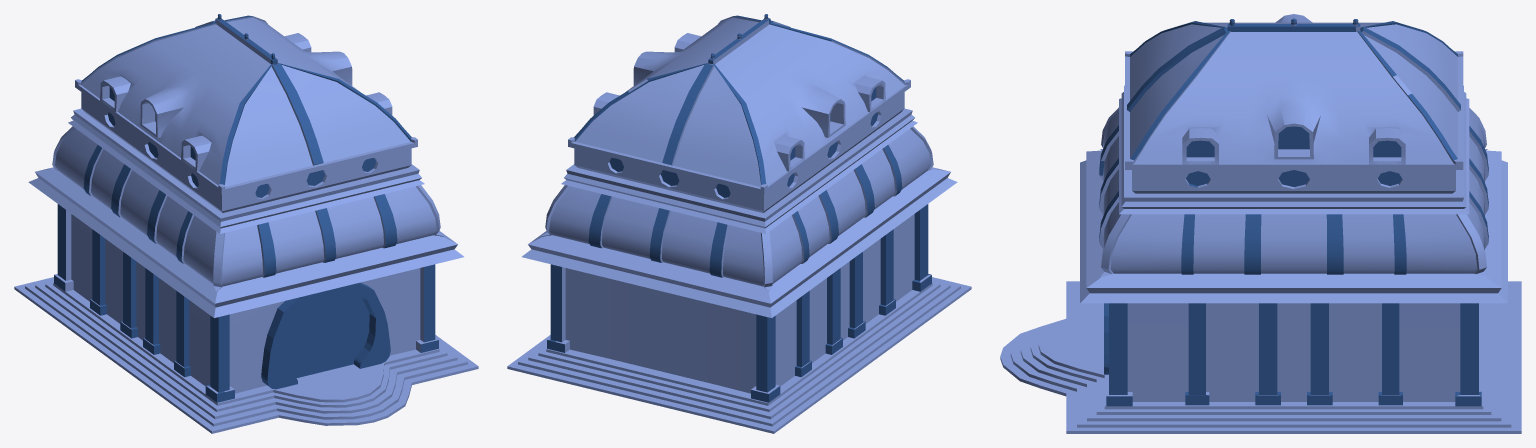
The model's file is Templo de Curacion.fbx.
The picture shows the model from 3 angles, left to right: view 1: azimuth 30°, elevation 25°; view 2: azimuth 150°, elevation 25°; view 3: azimuth 270°, elevation 25°; orthographic projection. The views are drawn at different scales.
Parts seen in each view (by area): view 1: Roof, Temple.001, Stairs, Arch; view 2: Roof, Temple.001, Stairs; view 3: Roof, Temple.001, Stairs.
Part boxes in pixels (left/top/right/bottom): Roof: left=28, top=14, right=463, bottom=317; Temple.001: left=54, top=204, right=438, bottom=402; Stairs: left=14, top=277, right=478, bottom=433; Arch: left=261, top=282, right=390, bottom=389; Roof: left=522, top=14, right=957, bottom=317; Temple.001: left=547, top=204, right=931, bottom=402; Stairs: left=507, top=277, right=971, bottom=433; Roof: left=1080, top=14, right=1507, bottom=303; Temple.001: left=1106, top=303, right=1481, bottom=406; Stairs: left=1000, top=281, right=1521, bottom=433.
Size of the model in its own units: 5359 by 5683 by 7881.
